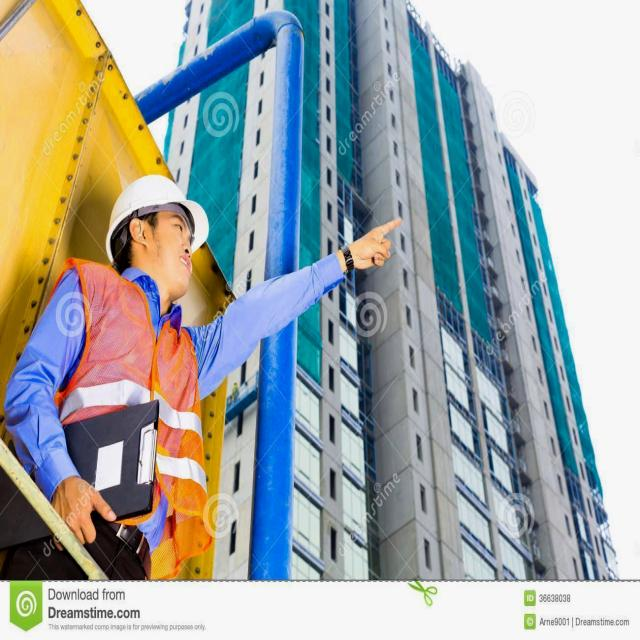face_nomask: (140, 217, 207, 299)
hand_noglove: (59, 464, 114, 553), (338, 208, 398, 278)
head_helmet: (103, 150, 225, 244)
person: (31, 125, 251, 573)
vest: (59, 269, 224, 556)
